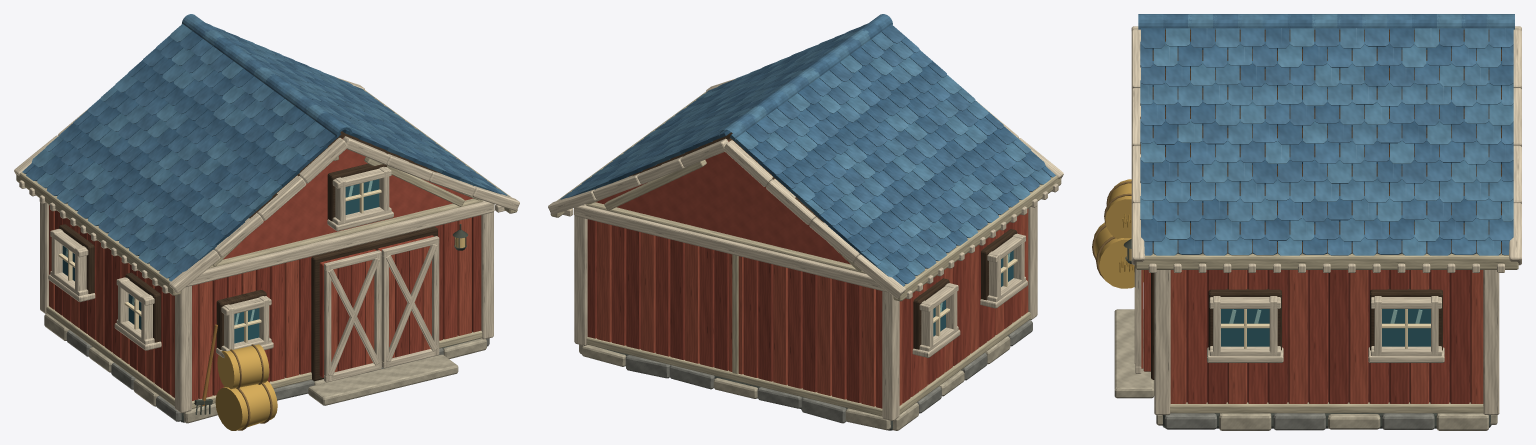
The model's file is barn.glb.
3 renders of one model, left to right at view 1: azimuth 30°, elevation 25°; view 2: azimuth 150°, elevation 25°; view 3: azimuth 270°, elevation 25°, orthographic. The views are drawn at different scales.
Visible parts, largest first — view 1: Batch_0_0_-9223371994123205027, Batch_0_0_-9223371898795060144, Batch_-1_0_-9223371898795060144, Batch_0_0_-9223371898828614578, Batch_-1_0_-9223371888946834256, Batch_0_0_-9223371888963611562, Batch_-1_0_-9223371888963611562, Batch_-1_0_-9223371872203172199, Batch_0_0_-9223372003602332183, Batch_0_0_-9223371888930056988, Batch_-1_0_-9223371888930056988, Batch_0_0_-9223371898811837361 (+15 smaller); view 2: Batch_0_0_-9223371994123205027, Batch_0_0_-9223371898828614578, Batch_0_-1_-9223371898795060144, Batch_-1_-1_-9223371898795060144, Batch_-1_-1_-9223371888930056988, Batch_-1_-1_-9223371888963611562, Batch_0_-1_-9223371888946834256, Batch_0_-1_-9223371888930056988, Batch_-1_-1_-9223371888946834256, Batch_0_-1_-9223371898811837361, Batch_0_-1_-9223371888963611562, Batch_-1_0_-9223371898795060144 (+11 smaller); view 3: Batch_0_0_-9223371994123205027, Batch_0_0_-9223371898795060144, Batch_0_0_-9223371898811837361, Batch_0_-1_-9223371898795060144, Batch_0_0_-9223371888963611562, Batch_0_-1_-9223371888930056988, Batch_0_0_-9223371888946834256, Batch_0_-1_-9223371888946834256, Batch_0_0_-9223372003652663834, Batch_0_0_-9223372003602332183, Batch_0_-1_-9223371888963611562, Batch_0_0_-9223371888930056988 (+9 smaller).
Boxes of the visible parts, x1,y1,x2,y2 form: Batch_0_0_-9223371994123205027: (22,14,509,281); Batch_0_0_-9223371898795060144: (185,136,519,382); Batch_-1_0_-9223371898795060144: (91,138,347,413); Batch_0_0_-9223371898828614578: (223,138,473,259); Batch_-1_0_-9223371888946834256: (121,258,337,398); Batch_0_0_-9223371888963611562: (319,221,457,377); Batch_-1_0_-9223371888963611562: (113,255,284,400); Batch_-1_0_-9223371872203172199: (215,344,277,430); Batch_0_0_-9223372003602332183: (308,338,486,405); Batch_0_0_-9223371888930056988: (337,215,481,371); Batch_-1_0_-9223371888930056988: (129,256,312,395); Batch_0_0_-9223371898811837361: (192,89,517,408); Batch_0_0_-9223371994123205027: (560,14,1055,286); Batch_0_0_-9223371898828614578: (595,140,850,264); Batch_0_-1_-9223371898795060144: (548,138,888,345); Batch_-1_-1_-9223371898795060144: (724,140,974,420); Batch_-1_-1_-9223371888930056988: (758,260,961,403); Batch_-1_-1_-9223371888963611562: (743,257,944,408); Batch_0_-1_-9223371888946834256: (597,221,743,374); Batch_0_-1_-9223371888930056988: (587,219,728,370); Batch_-1_-1_-9223371888946834256: (773,264,952,406); Batch_0_-1_-9223371898811837361: (585,151,882,416); Batch_0_-1_-9223371888963611562: (611,225,714,367); Batch_-1_0_-9223371898795060144: (977,101,1063,319); Batch_0_0_-9223371994123205027: (1138,14,1514,255); Batch_0_0_-9223371898795060144: (1131,29,1330,414); Batch_0_0_-9223371898811837361: (1135,253,1518,413); Batch_0_-1_-9223371898795060144: (1348,29,1521,414); Batch_0_0_-9223371888963611562: (1143,270,1327,403); Batch_0_-1_-9223371888930056988: (1329,270,1469,403); Batch_0_0_-9223371888946834256: (1141,270,1307,403); Batch_0_-1_-9223371888946834256: (1349,270,1483,403); Batch_0_0_-9223372003652663834: (1140,29,1501,379); Batch_0_0_-9223372003602332183: (1114,309,1271,430); Batch_0_-1_-9223371888963611562: (1369,270,1449,403); Batch_0_0_-9223371888930056988: (1207,270,1287,403).
Bounding box in the file's own units: 7.53 × 5.52 × 6.59.
21 materials, 12 textured.
